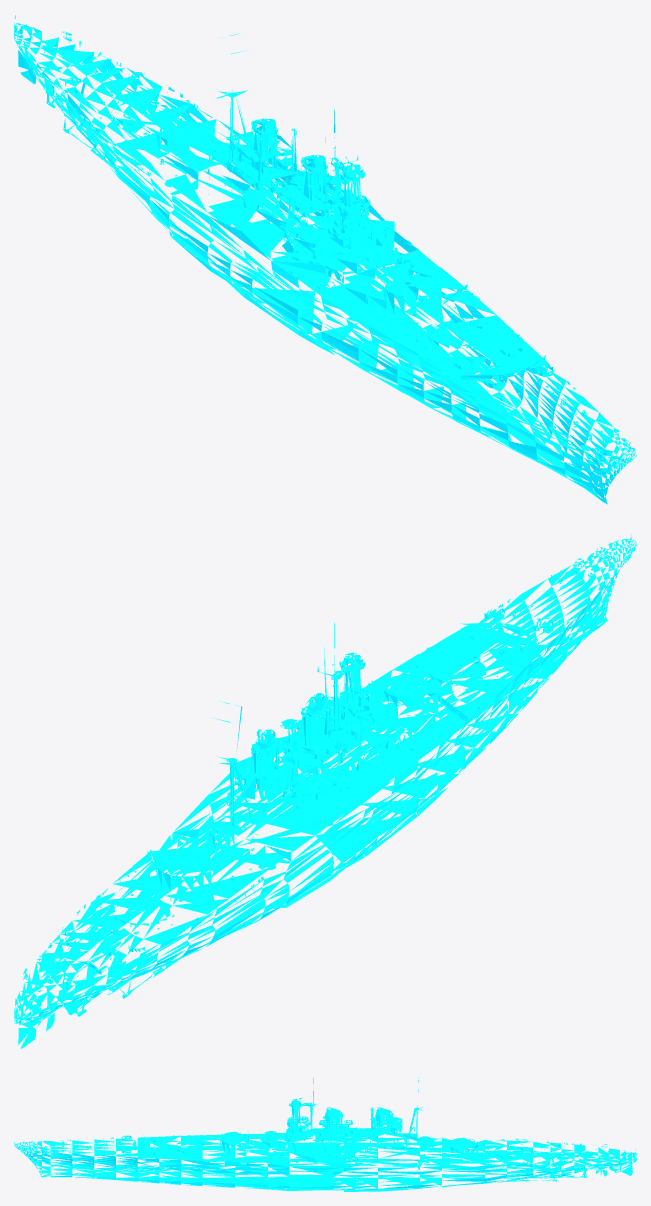
The model's file is Ruggiero_di_Lauria.glb.
3 views of the same model, one above another, from view 1: azimuth 30°, elevation 25°; view 2: azimuth 150°, elevation 25°; view 3: azimuth 270°, elevation 25° (orthographic). The views are drawn at different scales.
Size of the model in its own units: 2.27 by 3.4 by 19.12.
